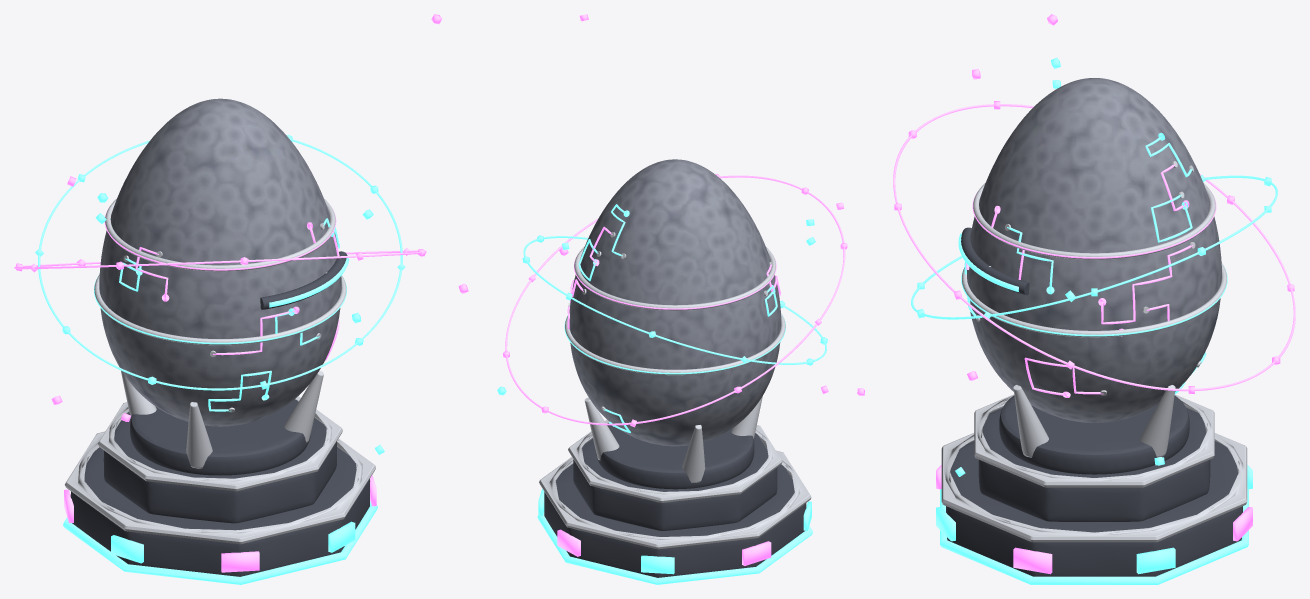
Rendered from cybercoreegg.glb.
3 renders of one model, left to right at view 1: azimuth 30°, elevation 25°; view 2: azimuth 150°, elevation 25°; view 3: azimuth 270°, elevation 25°, orthographic. The views are drawn at different scales.
Parts seen in each view (by area): view 1: CyberCoreEgg_Body, CyberCoreEgg_Stand_Base, CyberCoreEgg_Stand_Mid, CyberCoreEgg_Stand_Cup, CyberCoreEgg_Stand_Trim, CyberCoreEgg_Stand_Trim.001, CyberCoreEgg_Stand_Trim.002, CyberCoreEgg_HoloRing, CyberCoreEgg_SeamBand, CyberCoreEgg_SeamBand.001, CyberCoreEgg_HoloRing.001, CyberCoreEgg_Stand_Prong.003 (+6 smaller); view 2: CyberCoreEgg_Body, CyberCoreEgg_Stand_Base, CyberCoreEgg_Stand_Mid, CyberCoreEgg_Stand_Cup, CyberCoreEgg_Stand_Trim, CyberCoreEgg_Stand_Trim.001, CyberCoreEgg_Stand_Trim.002, CyberCoreEgg_HoloRing.001, CyberCoreEgg_SeamBand.001, CyberCoreEgg_SeamBand, CyberCoreEgg_HoloRing, CyberCoreEgg_Stand_Prong (+5 smaller); view 3: CyberCoreEgg_Body, CyberCoreEgg_Stand_Base, CyberCoreEgg_Stand_Mid, CyberCoreEgg_Stand_Cup, CyberCoreEgg_Stand_Trim, CyberCoreEgg_Stand_Trim.001, CyberCoreEgg_Stand_Trim.002, CyberCoreEgg_HoloRing.001, CyberCoreEgg_SeamBand, CyberCoreEgg_SeamBand.001, CyberCoreEgg_HoloRing, CyberCoreEgg_Stand_Prong.003 (+6 smaller).
Part boxes in pixels (x1=…): CyberCoreEgg_Body: x1=99, y1=98, x2=341, y2=426; CyberCoreEgg_Stand_Base: x1=70, y1=447, x2=370, y2=576; CyberCoreEgg_Stand_Mid: x1=103, y1=412, x2=336, y2=523; CyberCoreEgg_Stand_Cup: x1=130, y1=399, x2=310, y2=475; CyberCoreEgg_Stand_Trim: x1=65, y1=431, x2=375, y2=544; CyberCoreEgg_Stand_Trim.001: x1=98, y1=396, x2=342, y2=491; CyberCoreEgg_Stand_Trim.002: x1=63, y1=500, x2=377, y2=584; CyberCoreEgg_HoloRing: x1=38, y1=139, x2=402, y2=390; CyberCoreEgg_SeamBand: x1=94, y1=274, x2=346, y2=345; CyberCoreEgg_SeamBand.001: x1=105, y1=199, x2=335, y2=271; CyberCoreEgg_HoloRing.001: x1=14, y1=250, x2=426, y2=269; CyberCoreEgg_Stand_Prong.003: x1=284, y1=371, x2=323, y2=442; CyberCoreEgg_Body: x1=569, y1=159, x2=781, y2=446; CyberCoreEgg_Stand_Base: x1=544, y1=464, x2=806, y2=577; CyberCoreEgg_Stand_Mid: x1=573, y1=433, x2=777, y2=530; CyberCoreEgg_Stand_Cup: x1=596, y1=423, x2=754, y2=489; CyberCoreEgg_Stand_Trim: x1=539, y1=450, x2=811, y2=549; CyberCoreEgg_Stand_Trim.001: x1=568, y1=420, x2=782, y2=502; CyberCoreEgg_Stand_Trim.002: x1=537, y1=511, x2=812, y2=584; CyberCoreEgg_HoloRing.001: x1=505, y1=175, x2=845, y2=425; CyberCoreEgg_SeamBand.001: x1=574, y1=247, x2=775, y2=310; CyberCoreEgg_SeamBand: x1=565, y1=313, x2=785, y2=375; CyberCoreEgg_HoloRing: x1=523, y1=236, x2=826, y2=364; CyberCoreEgg_Stand_Prong: x1=584, y1=397, x2=619, y2=460; CyberCoreEgg_Body: x1=967, y1=78, x2=1221, y2=422; CyberCoreEgg_Stand_Base: x1=946, y1=441, x2=1242, y2=576; CyberCoreEgg_Stand_Mid: x1=978, y1=408, x2=1210, y2=521; CyberCoreEgg_Stand_Cup: x1=999, y1=395, x2=1189, y2=474; CyberCoreEgg_Stand_Trim: x1=941, y1=433, x2=1247, y2=542; CyberCoreEgg_Stand_Trim.001: x1=974, y1=394, x2=1214, y2=487; CyberCoreEgg_Stand_Trim.002: x1=940, y1=489, x2=1248, y2=584; CyberCoreEgg_HoloRing.001: x1=893, y1=104, x2=1295, y2=391; CyberCoreEgg_SeamBand: x1=962, y1=263, x2=1226, y2=337; CyberCoreEgg_SeamBand.001: x1=973, y1=183, x2=1215, y2=259; CyberCoreEgg_HoloRing: x1=911, y1=175, x2=1277, y2=319; CyberCoreEgg_Stand_Prong.003: x1=1013, y1=385, x2=1048, y2=457.
Size of the model in its own units: 4.61 by 5.86 by 4.01.
Materials: 5 (1 with a texture image).
